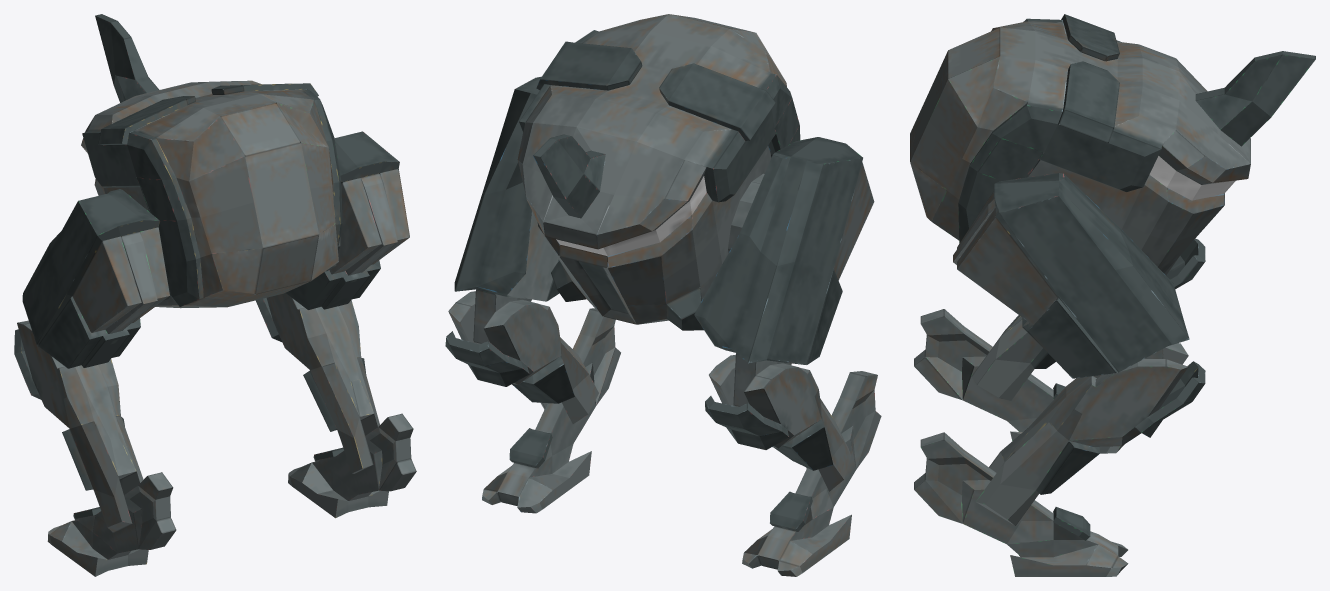
Rendered from Boss1.fbx.
The picture shows the model from 3 angles, left to right: view 1: azimuth 30°, elevation 25°; view 2: azimuth 150°, elevation 25°; view 3: azimuth 270°, elevation 25°; orthographic projection. The views are drawn at different scales.
Parts seen in each view (by area): view 1: Body, L-Leg, L-Calf, R-Leg, R-Calf, R-Foot, L-Foot; view 2: Body, L-Leg, R-Leg, R-Calf, L-Calf, L-Foot, R-Foot; view 3: Body, R-Leg, R-Calf, R-Foot, L-Foot, L-Calf.
Boxes of the visible parts, left/top/right/bottom form: Body: left=81, top=14, right=342, bottom=308; L-Leg: left=22, top=189, right=169, bottom=368; L-Calf: left=14, top=320, right=143, bottom=532; R-Leg: left=263, top=131, right=409, bottom=309; R-Calf: left=255, top=293, right=379, bottom=473; R-Foot: left=288, top=413, right=416, bottom=518; L-Foot: left=47, top=472, right=176, bottom=576; Body: left=517, top=14, right=800, bottom=330; L-Leg: left=694, top=137, right=874, bottom=406; R-Leg: left=454, top=76, right=596, bottom=344; R-Calf: left=445, top=291, right=598, bottom=423; L-Calf: left=705, top=354, right=850, bottom=491; L-Foot: left=742, top=371, right=881, bottom=576; R-Foot: left=482, top=308, right=620, bottom=513; Body: left=910, top=14, right=1315, bottom=272; R-Leg: left=953, top=173, right=1189, bottom=378; R-Calf: left=976, top=343, right=1205, bottom=525; R-Foot: left=914, top=432, right=1128, bottom=576; L-Foot: left=914, top=309, right=1124, bottom=453; L-Calf: left=971, top=238, right=1205, bottom=400.
Bounding box in the file's own units: 369 × 495 × 396.
2 materials, 2 textured.
